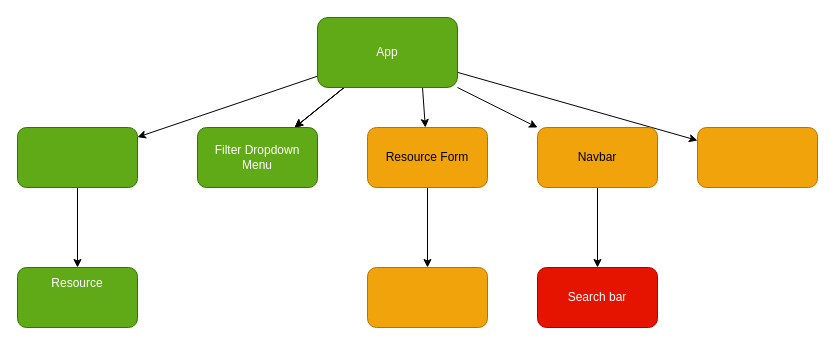
This 835x345 diagram has some shape labels left out. The centre of each missing label's shape, as x and y in pixels:
Footer: pixel 757 157
Resource List: pixel 77 157
Submit Button: pixel 427 297
